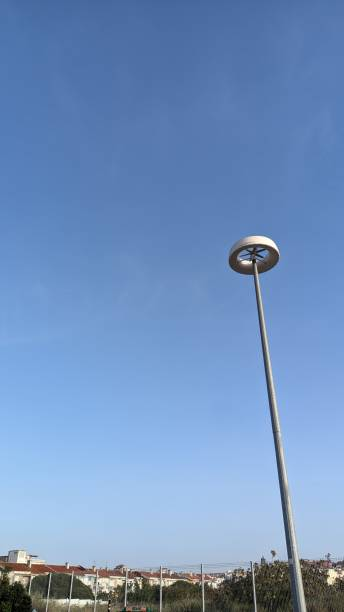light_pole: (250, 270, 322, 612)
